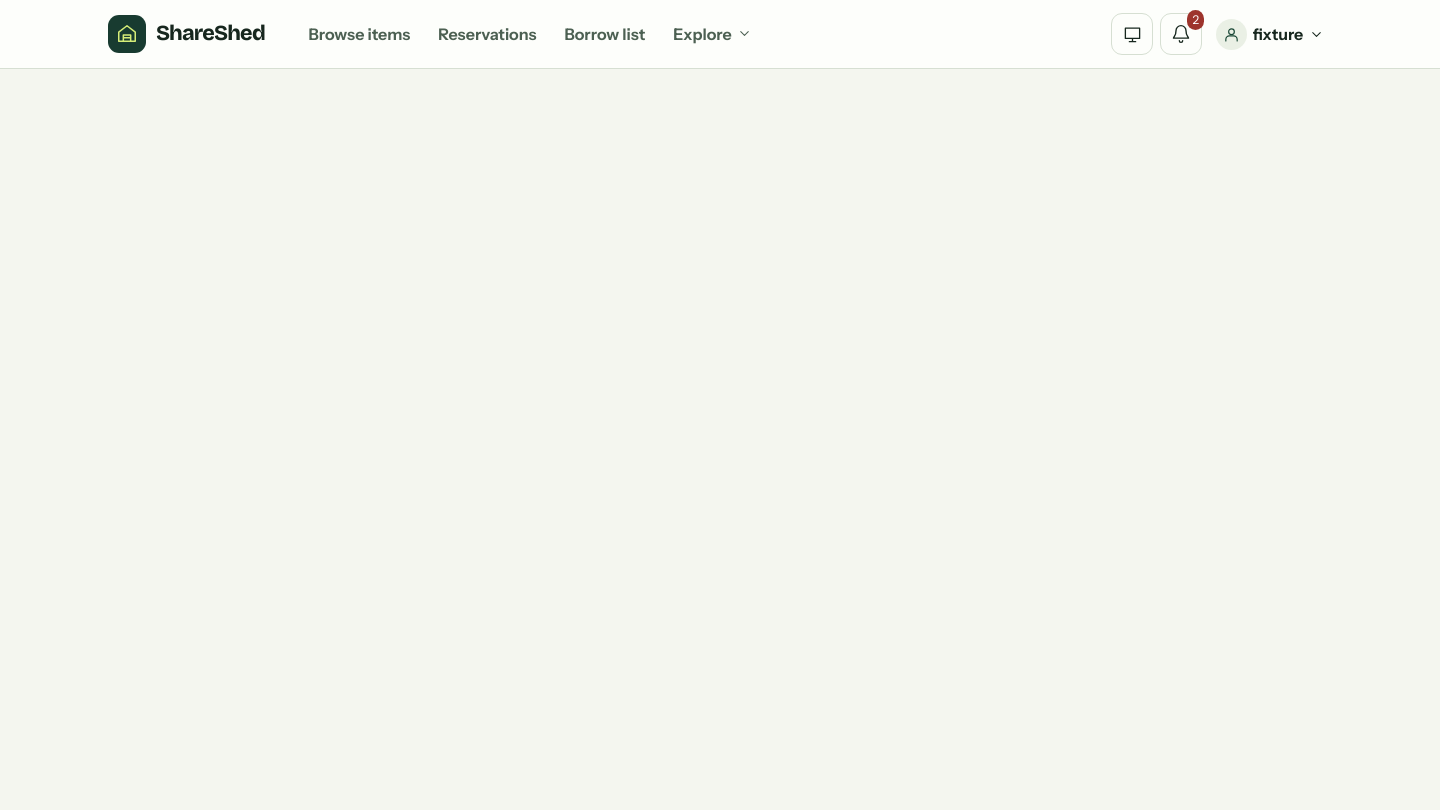
Test case: Member 9 integration › mounts the notification bell for a member when the feature is present
What coordinates should you click on to do the following:
click the button named "Notifications, 2 unread"
I would click on:
 (1181, 34)
Its box is [1160, 13, 1202, 55].
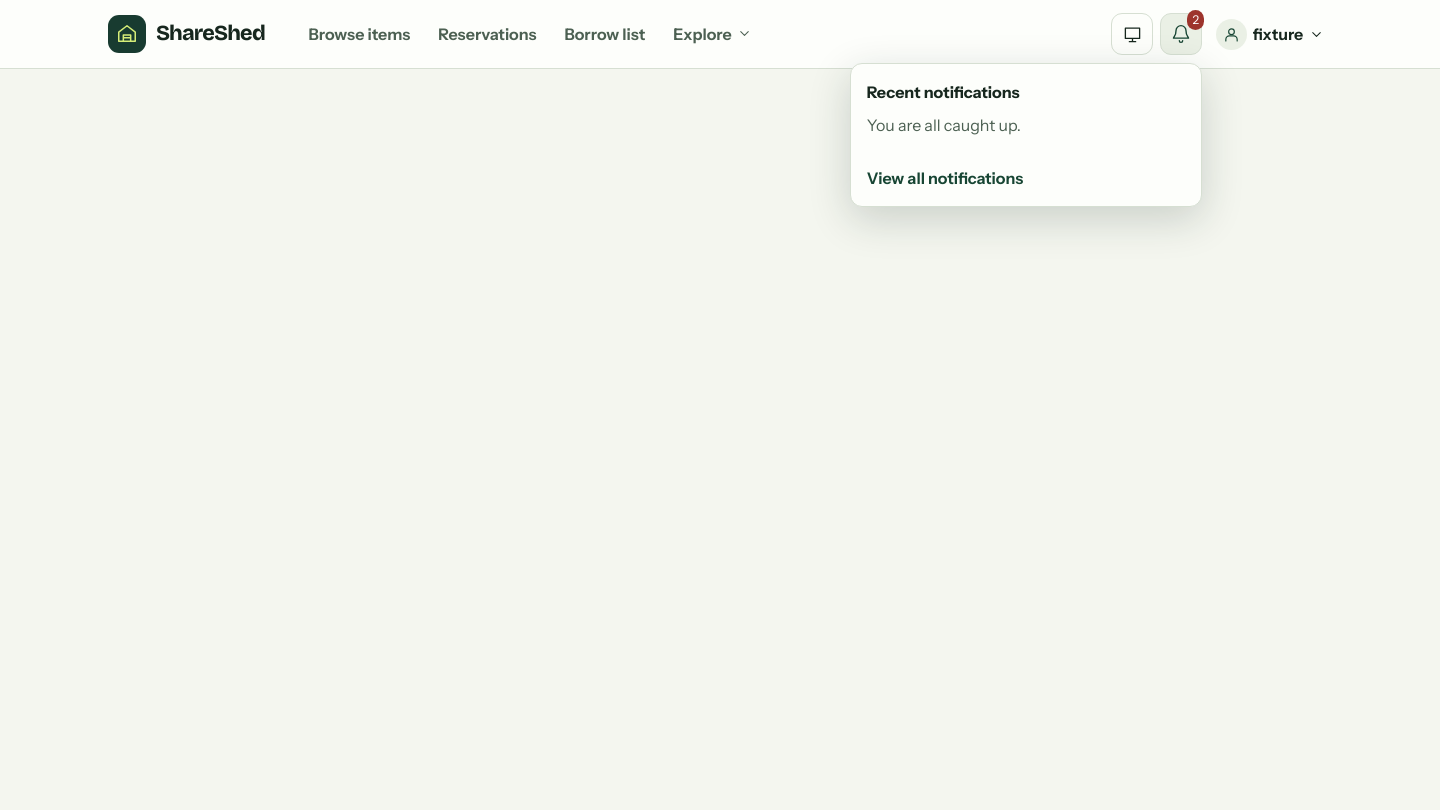
Now the dialog "Recent notifications" is shown, box [850, 63, 1202, 207]
